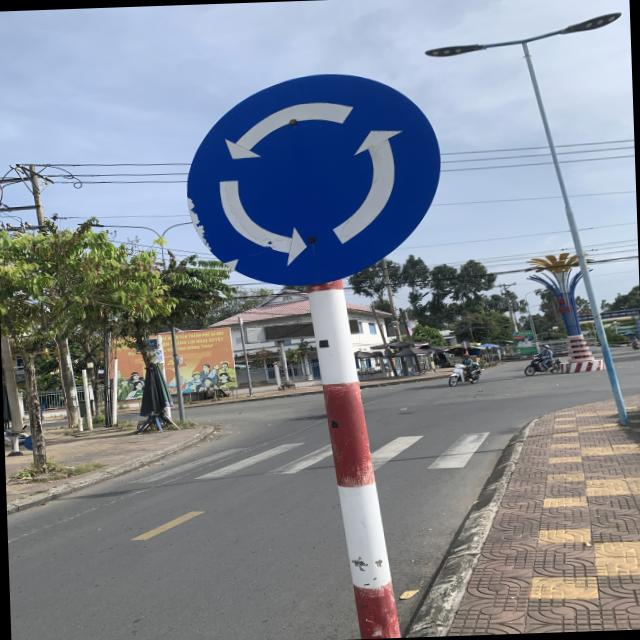Xe_Bus: (180, 71, 447, 286)
